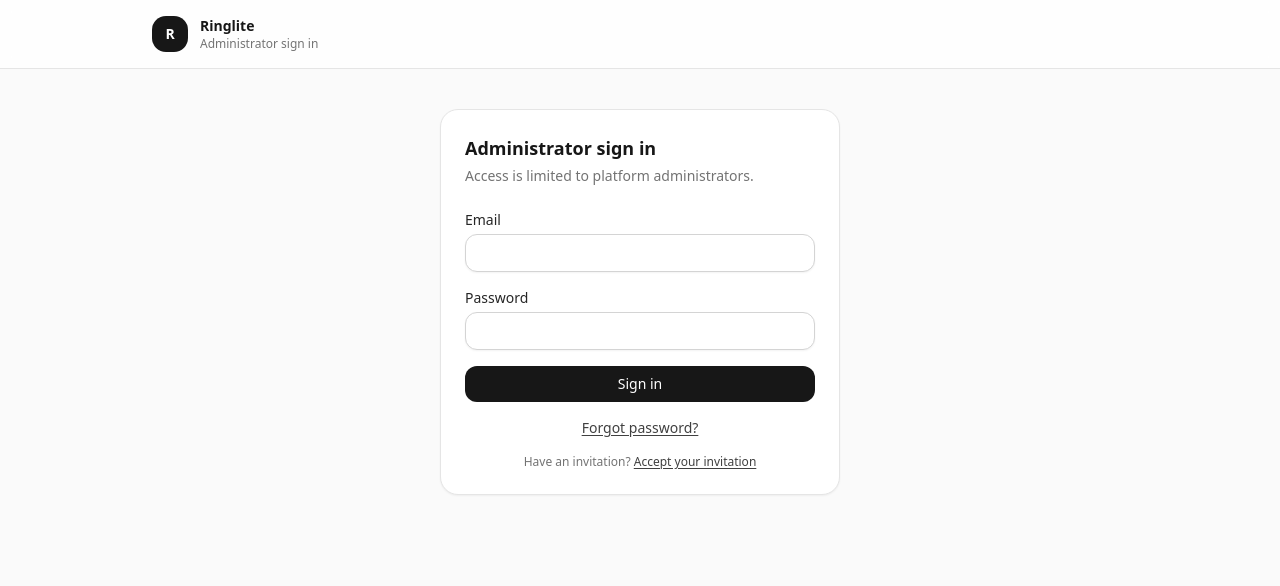
Test case: AdminLogin factor flows › does not navigate when refreshMe returns null
The width and height of the screenshot is (1280, 586).
Type "admin@example.com" into the field labelled "Email".
click(640, 253); type("admin@example.com")  # box [465,234,815,272]
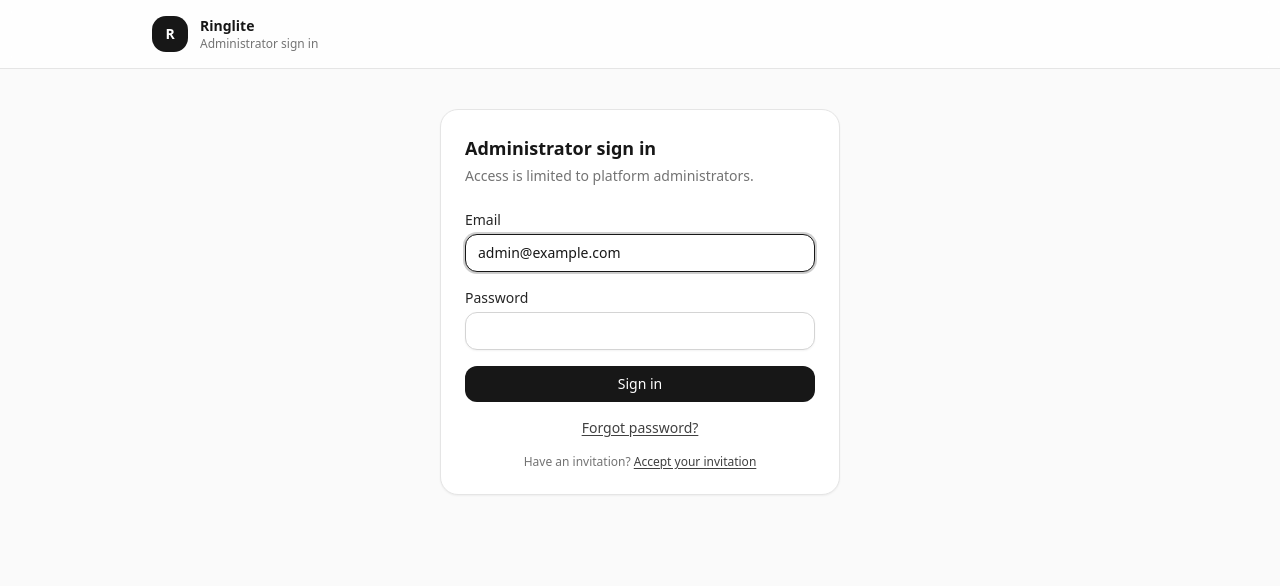
Type "hunter2hunter2" into the password field labelled "Password".
click(640, 331); type("hunter2hunter2")  # box [465,312,815,350]
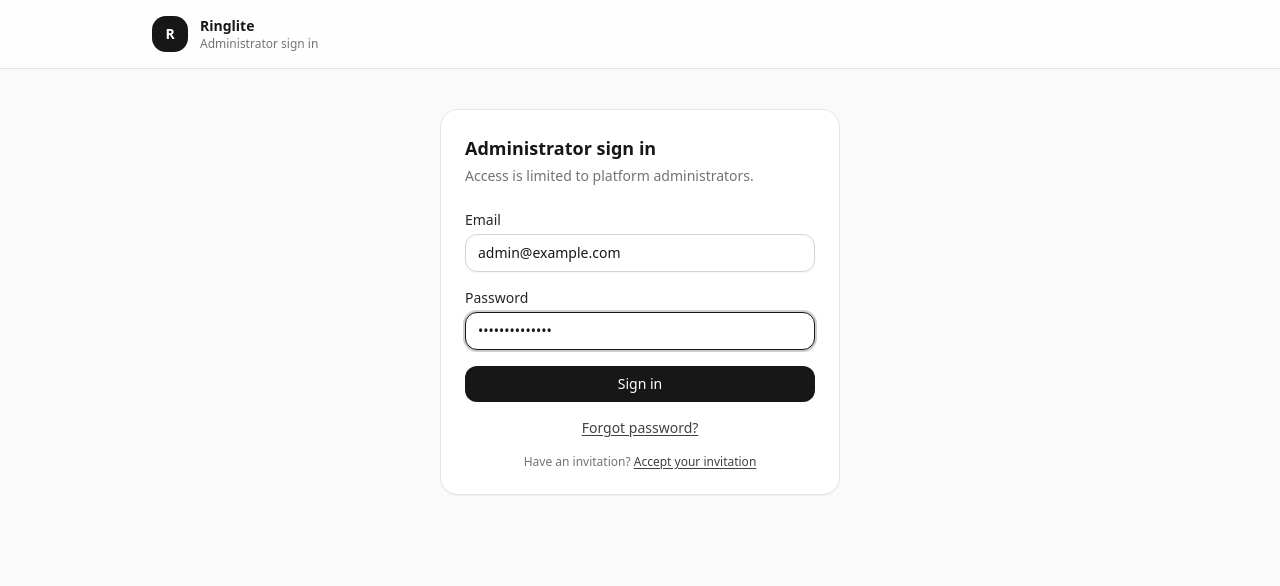
Click the button "Sign in".
click(640, 384)  # box [465,366,815,402]
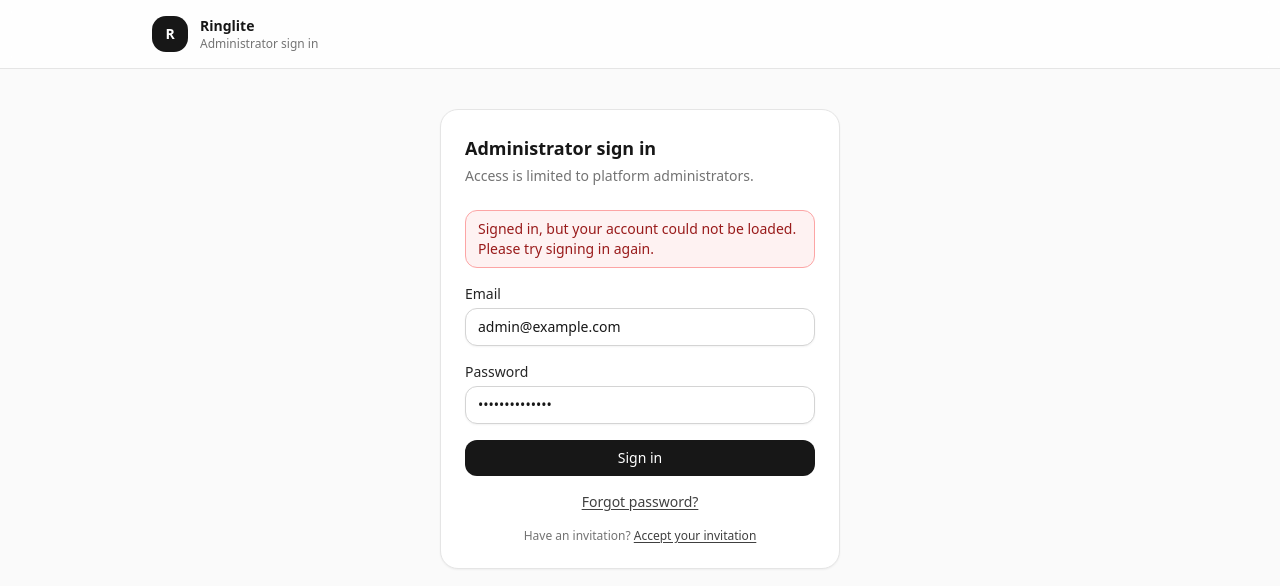
Result: the message shows "could not be loaded" at [478,219,796,258]
